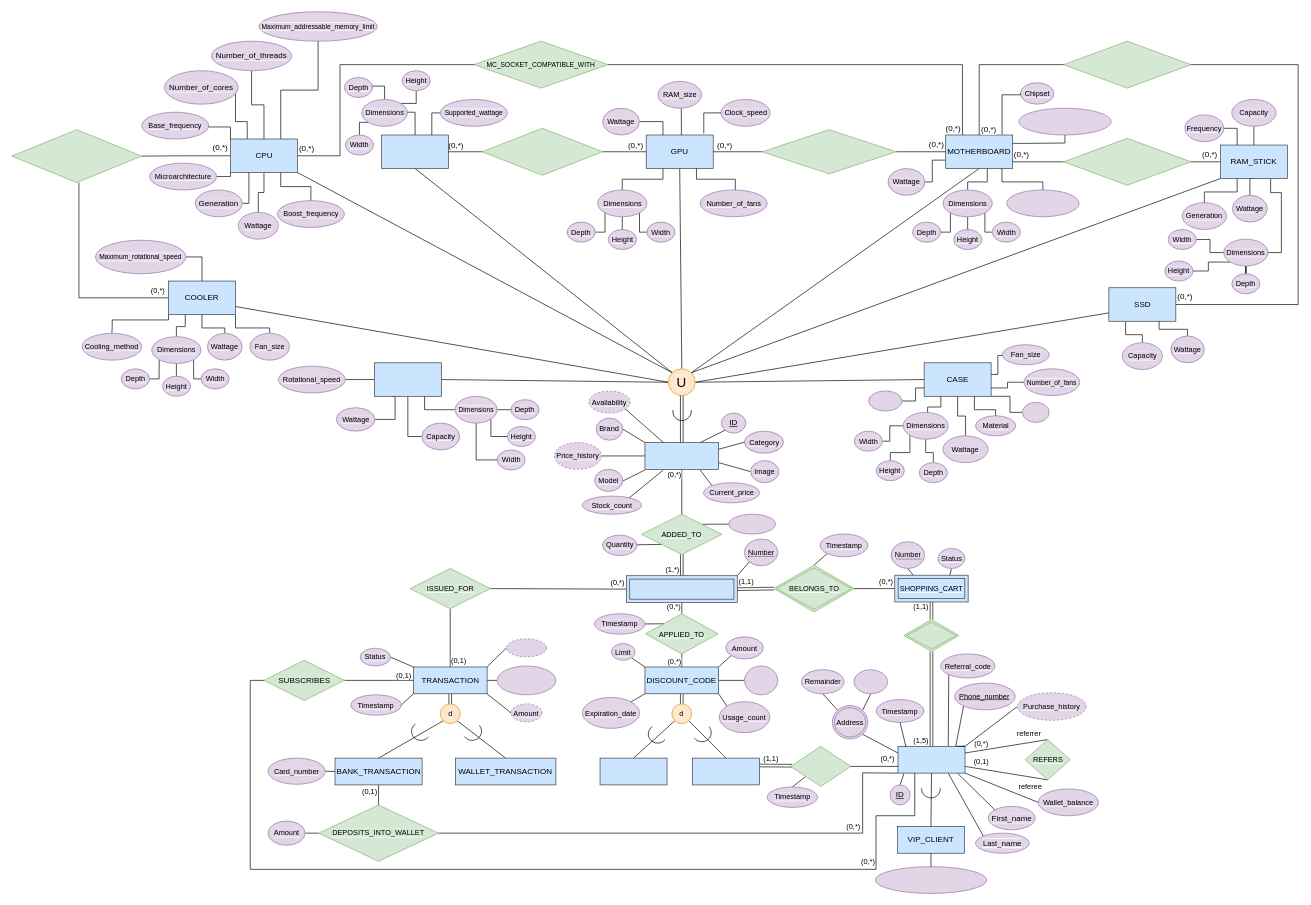
This 1311x905 diagram has some shape labels left out. Each missing label, with the centre of its shape:
Cart_price: the point at 752,524
CC_SOCKET_COMPATIBLE_WITH: the point at 76,156
CLIENT: the point at 931,759
Code: the point at 761,680
Color: the point at 1035,412
CONNECTOR_COMPATIBLE_WITH: the point at 542,151
GM_SLOT_COMPATIBLE_ WITH: the point at 828,151
HDD: the point at 407,379
Issuer_ID: the point at 526,647
LOCKED_SHOPPING_CART: the point at 681,589
Memory_speed _range: the point at 1042,203
Number_of_memory_ slots: the point at 1064,121
OWNED_BY: the point at 820,766
OWNS: the point at 931,635
POWER_SUPPLY: the point at 415,151
PRIVATE: the point at 726,771
PRODUCT: the point at 681,455
Province: the point at 870,681
PUBLIC: the point at 633,771
RM_SLOT_COMPATIBLE_ WITH: the point at 1127,161
SM_SLOT_COMPATIBLE_ WITH: the point at 1127,64
Subscription_expiration_time: the point at 931,879
Tracking_code: the point at 526,680
Type: the point at 885,400
